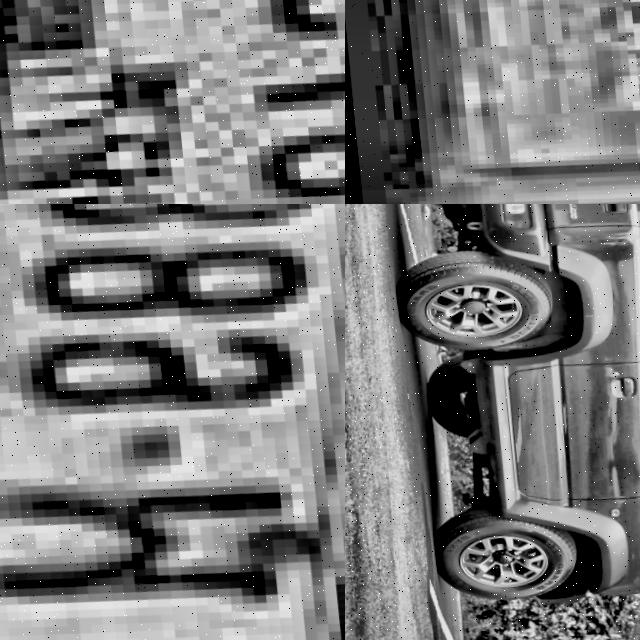license-plate: (0, 204, 345, 640), (0, 0, 345, 204), (349, 0, 640, 204)
